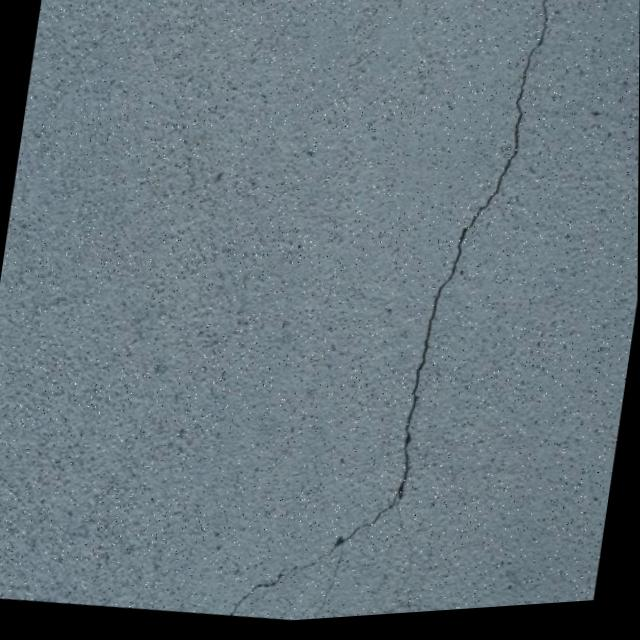Crack: (222, 0, 568, 628)
